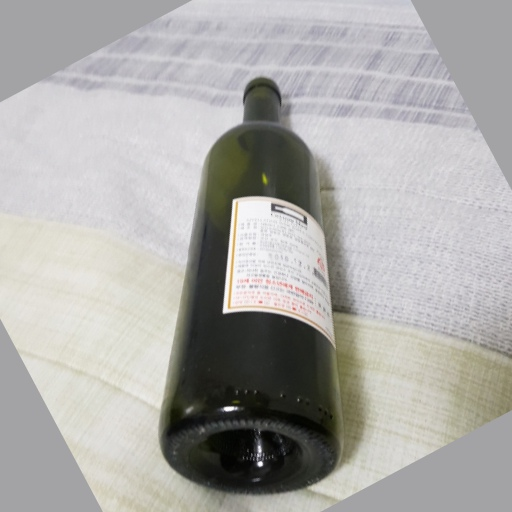Glass_2: (152, 76, 342, 498)
